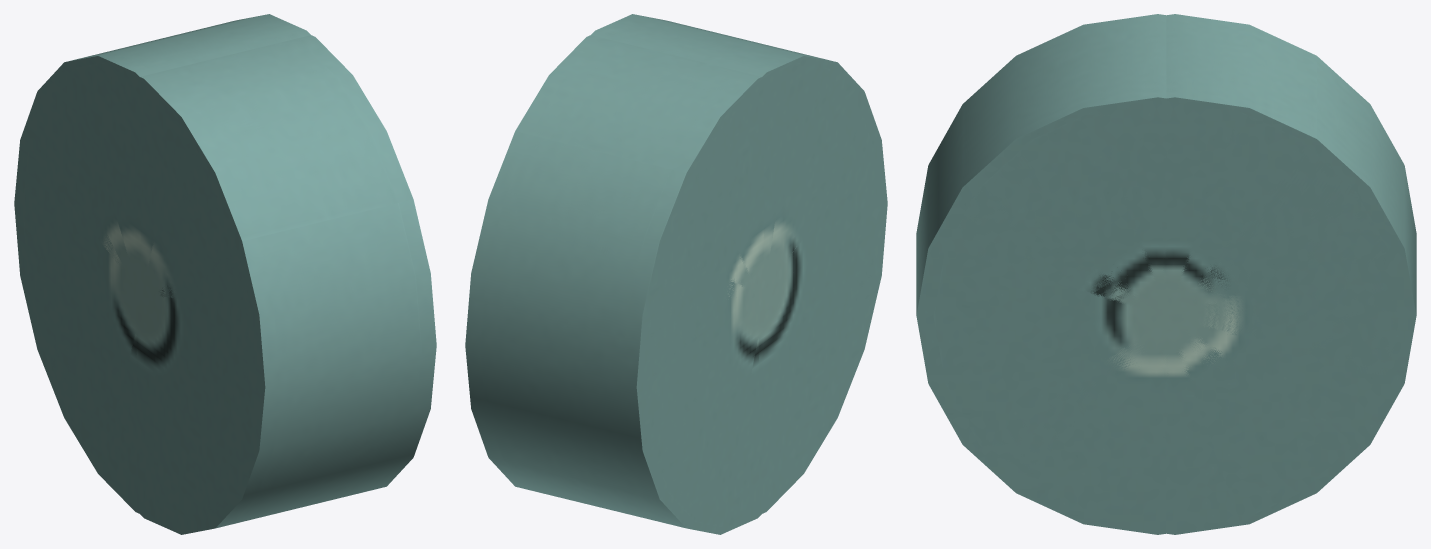
Rendered from DoubleWheels_fbx.fbx.
The picture shows the model from 3 angles, left to right: view 1: azimuth 30°, elevation 25°; view 2: azimuth 150°, elevation 25°; view 3: azimuth 270°, elevation 25°; orthographic projection.
Visible parts, largest first — view 1: wheelA, wheelA3, wheelA1, wheelA2; view 2: wheelA1, wheelA, wheelA2, wheelA3; view 3: wheelA2, wheelA3, wheelA1, wheelA.
Boxes of the visible parts, x1,y1,x2,y2 form: wheelA: [23, 40, 421, 534]; wheelA3: [163, 35, 436, 524]; wheelA1: [14, 18, 295, 518]; wheelA2: [83, 14, 310, 72]; wheelA1: [480, 41, 876, 534]; wheelA: [607, 17, 887, 527]; wheelA2: [465, 35, 746, 524]; wheelA3: [591, 14, 818, 72]; wheelA2: [933, 21, 1416, 534]; wheelA3: [916, 21, 1399, 534]; wheelA1: [1166, 14, 1416, 308]; wheelA: [916, 14, 1166, 308].
Size of the model in its own units: 1.38 by 3.39 by 3.51.
